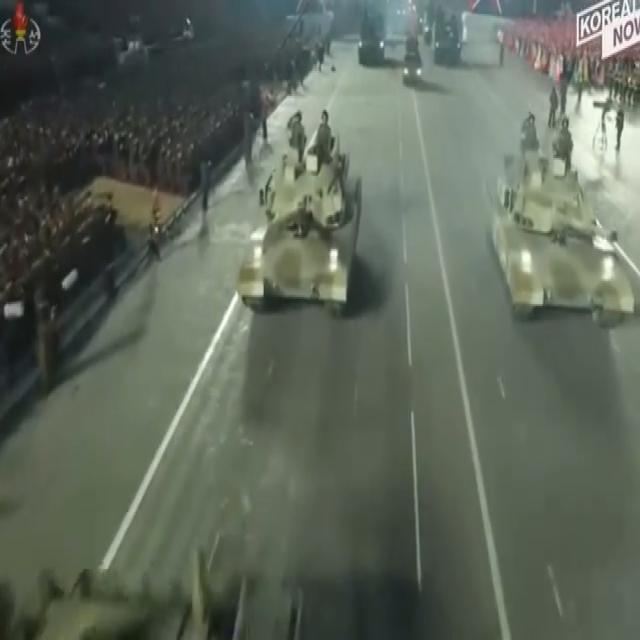north tank: (465, 113, 640, 374), (229, 89, 367, 324)
